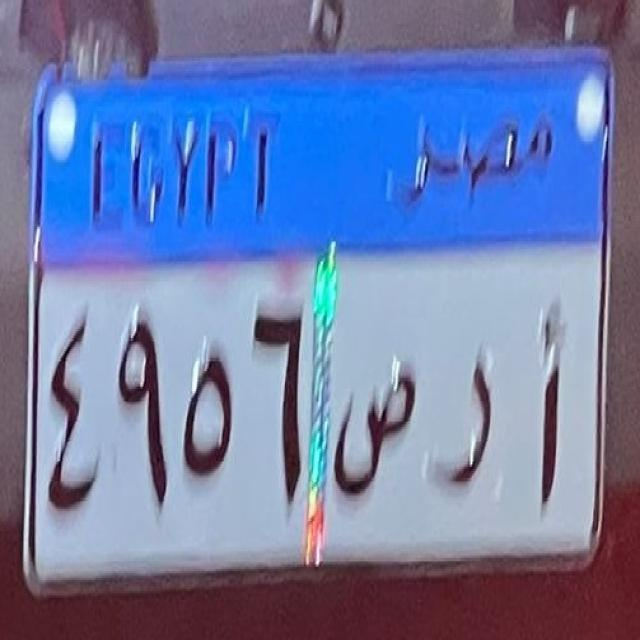4: (38, 304, 108, 522)
5: (179, 344, 236, 488)
6: (244, 290, 314, 514)
9: (113, 314, 177, 524)
R: (427, 334, 499, 510)
Saad: (319, 345, 432, 524)
alef: (502, 284, 596, 537)
